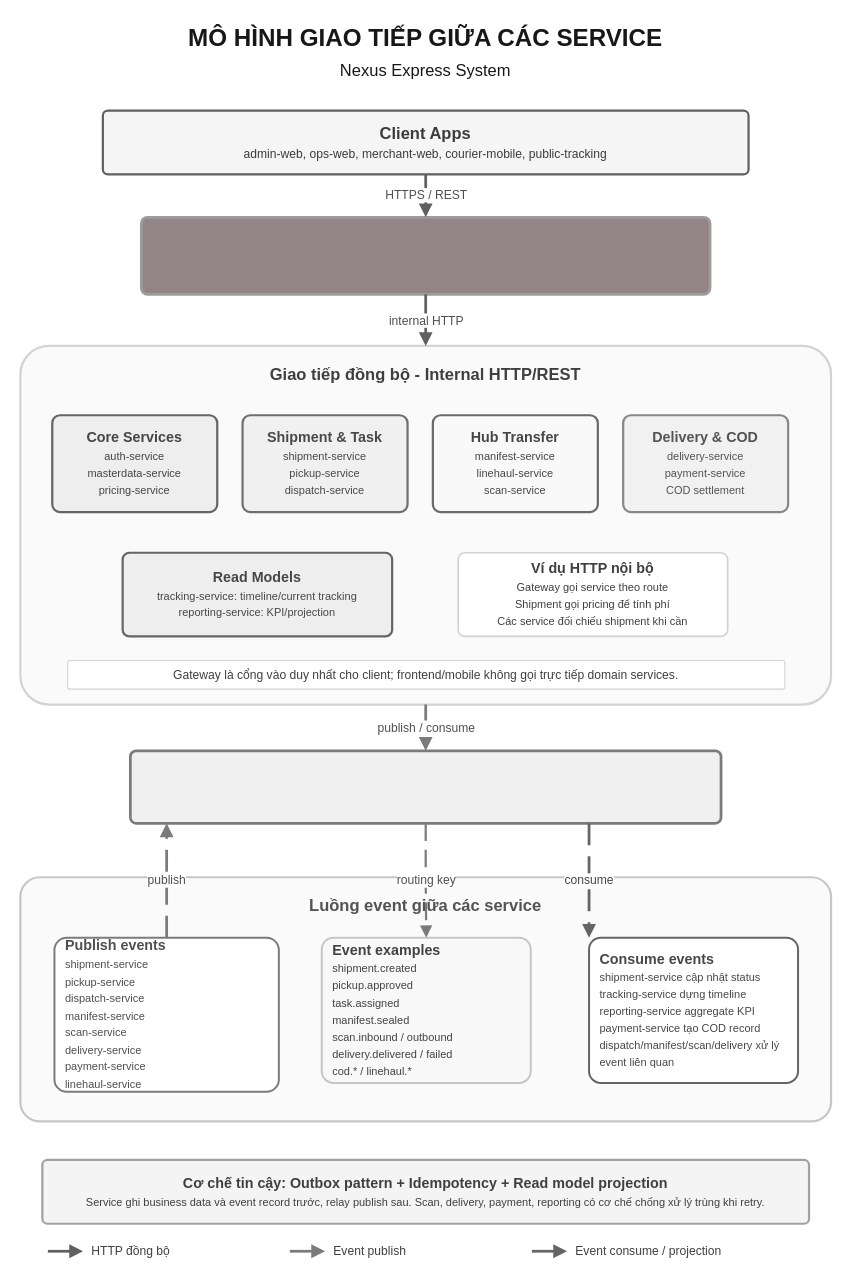
Image size: 850x1280. Some labels were removed from this diagram. Here are the shapes that lost their labels. From the top down, the centre of each, then its label:
At point 425,255: "gateway-bff Entry point cho web/mobile, proxy theo route nghiệp vụ".
At point 425,786: "RabbitMQ Topic Exchange: domain.events Giao tiếp bất đồng bộ bằng domain events".
